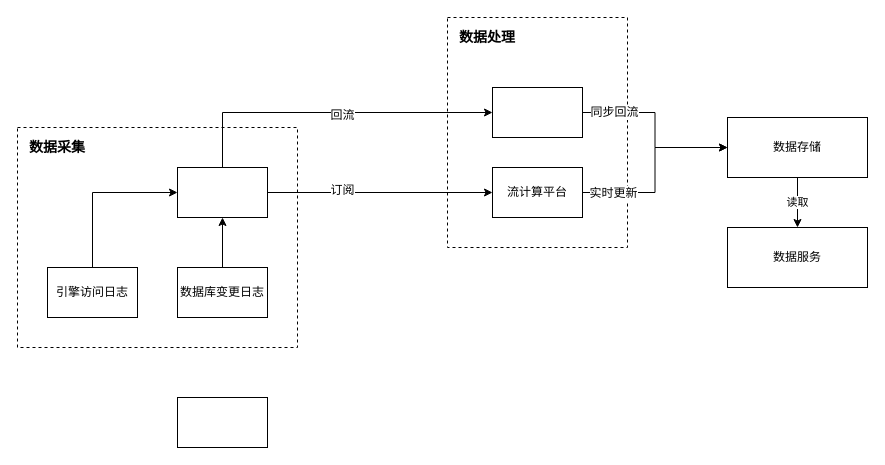
Image size: 885x465. Some labels were removed from this diagram. Each missing label, with the box of its shape:
数据中间件: (176, 166, 268, 218)
消息系统: (176, 396, 268, 448)
离线计算: (492, 86, 582, 138)
